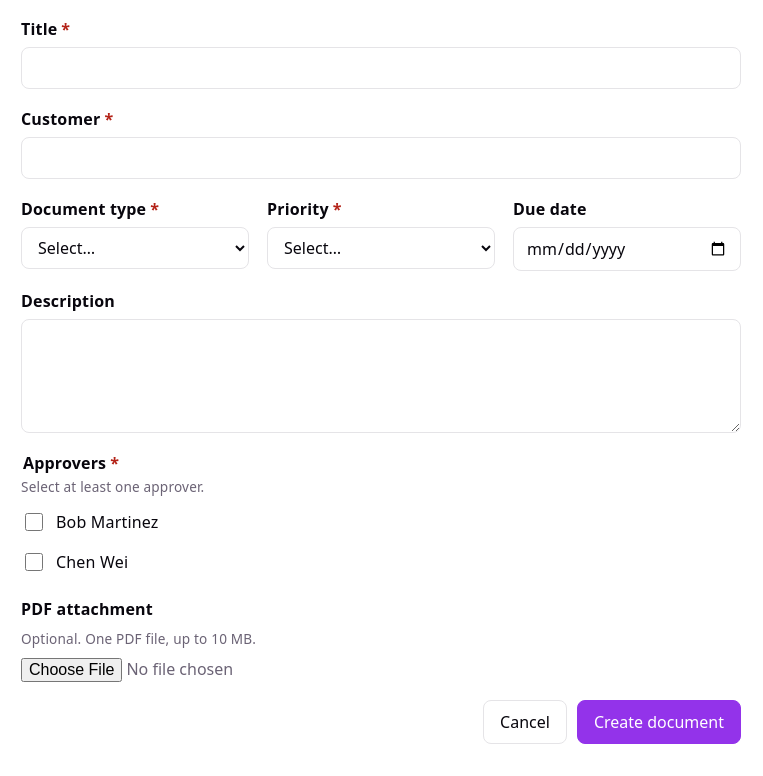
Test: create document form › blocks submission and highlights every missing required field
(page scrolled)
What coordinates should you click on to do the following:
click the button "Create document"
I would click on:
 (659, 722)
Its box is [577,700,741,744].
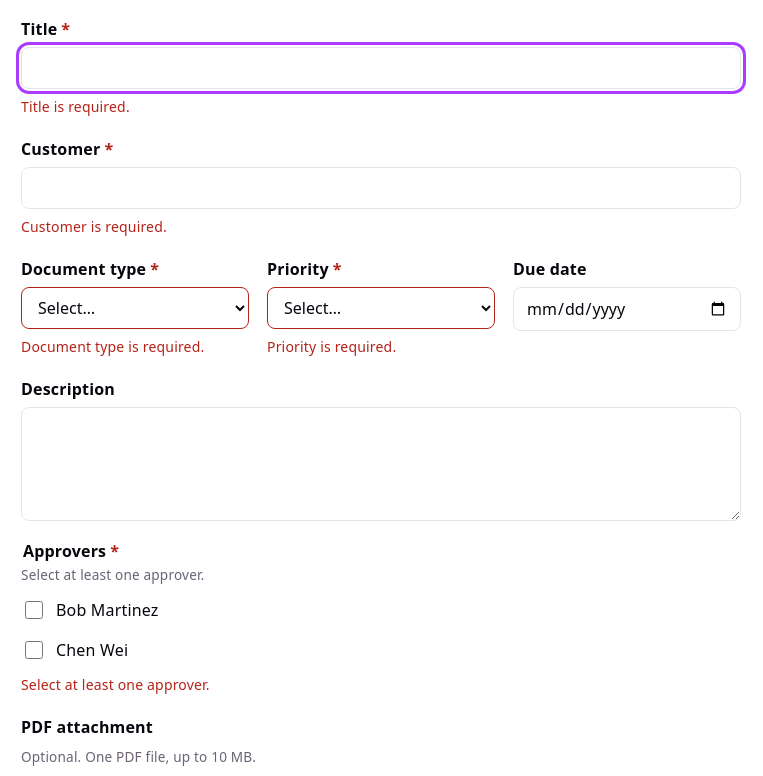
Result: the text "Title is required." is shown at [21,98,130,116]
Result: the text "Customer is required." is shown at [21,218,167,236]
Result: the text "Document type is required." is shown at [21,338,204,356]
